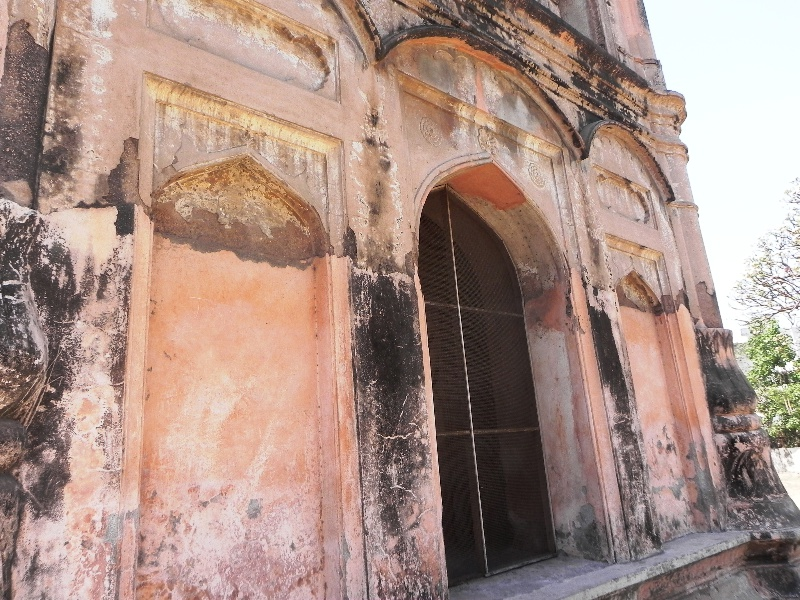Spalling: (147, 195, 331, 271)
